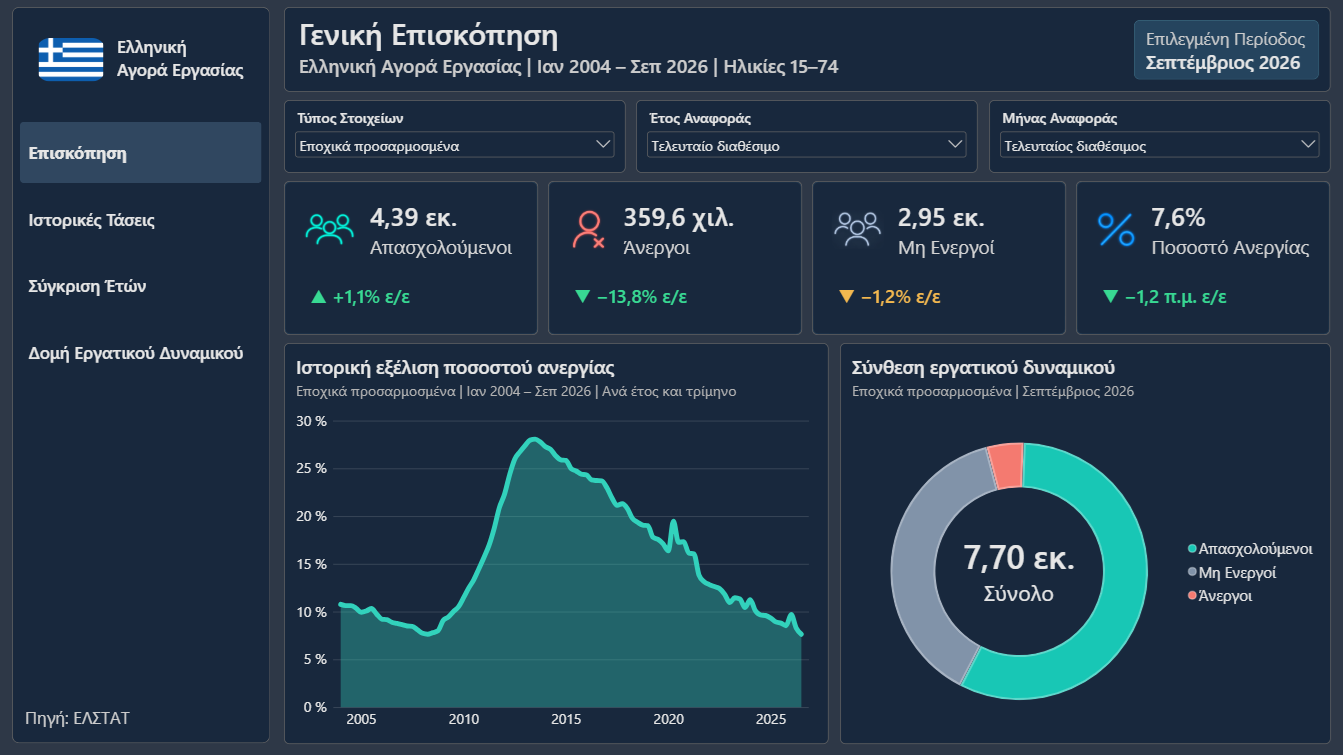

This screenshot's page, from the dashboard's own definition file:
{"tool":"powerbi","page":{"name":"Επισκόπηση","canvas":[1920,1080],"ordinal":0},"visuals":[{"type":"shape","box":[16.7,11.7,368.3,1051.7],"z":0},{"type":"lineChart","title":"Ιστορική εξέλιση ποσοστού ανεργίας","fields":{"Category":["Πίνακας 1Α.Ημερομηνία.Variation.Date Hierarchy.Year","Πίνακας 1Α.Ημερομηνία.Variation.Date Hierarchy.Quarter"],"Y":["Avg(Πίνακας 1Α.Ποσοστό ανεργίας)"]},"box":[405.7,490.8,778.1,573.3],"z":1000},{"type":"slicer","fields":{"Values":["Πίνακας 1Α.Τύπος Στοιχείων"]},"box":[405.7,144.3,488,104],"z":2000},{"type":"donutChart","title":"Σύνθεση εργατικού δυναμικού","fields":{"Category":["Κατηγορίες Donut.Κατηγορία"],"Y":["Κατηγορίες Donut.Donut Τιμή"]},"box":[1199.7,490.8,700.9,573.3],"z":3000},{"type":"cardVisual","fields":{"Data":["Κατηγορίες Donut.Donut Κεντρικό Σύνολο"]},"box":[1354.2,754.2,203.7,125.3],"z":4000},{"type":"cardVisual","fields":{"Data":["Πίνακας 1Α.KPI Τιμή Απασχόλησης"]},"box":[405.7,259.5,363,220],"z":5000},{"type":"cardVisual","fields":{"Data":["Πίνακας 1Α.KPI Τιμή Ανέργων"]},"box":[783,259.5,363,220],"z":6000},{"type":"cardVisual","fields":{"Data":["Πίνακας 1Α.KPI Τιμή Μη Ενεργών"]},"box":[1160.3,259.5,363,220],"z":7000},{"type":"cardVisual","fields":{"Data":["Πίνακας 1Α.KPI Τιμή Ανεργίας"]},"box":[1537.6,259.5,363,220],"z":8000},{"type":"textbox","box":[405.7,12,1495,121],"z":9000},{"type":"textbox","box":[35.7,1010,325.7,40],"z":10000},{"type":"image","box":[50.7,55.7,100,61.7],"z":11000},{"type":"textbox","box":[166.4,50.7,212.9,82.9],"z":12000},{"type":"pageNavigator","box":[28.6,175.7,345,372],"z":13000},{"type":"slicer","fields":{"Values":["Επιλογή Έτους.Ετικέτα"]},"box":[909.2,144.3,488,104],"z":14000},{"type":"slicer","fields":{"Values":["Επιλογή Μήνα.Ετικέτα"]},"box":[1412.6,144.3,488,104],"z":15000},{"type":"cardVisual","fields":{"Data":["Πίνακας 1Α.KPI Επιλεγμένη Περίοδος"]},"box":[1620,30.6,264.7,85.1],"z":16000}]}

Visuals, with their boxes in screenshot pixels (x1, y1, x2, y2), scaled from the page's 1920x1080 canvas onto the 1343x755 screenshot:
shape: x1=12, y1=8, x2=269, y2=743
"Ιστορική εξέλιση ποσοστού ανεργίας" lineChart: x1=284, y1=343, x2=828, y2=744
slicer - Πίνακας 1Α.Τύπος Στοιχείων: x1=284, y1=101, x2=625, y2=174
"Σύνθεση εργατικού δυναμικού" donutChart: x1=839, y1=343, x2=1329, y2=744
cardVisual - Κατηγορίες Donut.Donut Κεντρικό Σύνολο: x1=947, y1=527, x2=1090, y2=615
cardVisual - Πίνακας 1Α.KPI Τιμή Απασχόλησης: x1=284, y1=181, x2=538, y2=335
cardVisual - Πίνακας 1Α.KPI Τιμή Ανέργων: x1=548, y1=181, x2=802, y2=335
cardVisual - Πίνακας 1Α.KPI Τιμή Μη Ενεργών: x1=812, y1=181, x2=1066, y2=335
cardVisual - Πίνακας 1Α.KPI Τιμή Ανεργίας: x1=1076, y1=181, x2=1329, y2=335
textbox: x1=284, y1=8, x2=1330, y2=93
textbox: x1=25, y1=706, x2=253, y2=734
image: x1=35, y1=39, x2=105, y2=82
textbox: x1=116, y1=35, x2=265, y2=93
pageNavigator: x1=20, y1=123, x2=261, y2=383
slicer - Επιλογή Έτους.Ετικέτα: x1=636, y1=101, x2=977, y2=174
slicer - Επιλογή Μήνα.Ετικέτα: x1=988, y1=101, x2=1329, y2=174
cardVisual - Πίνακας 1Α.KPI Επιλεγμένη Περίοδος: x1=1133, y1=21, x2=1318, y2=81
